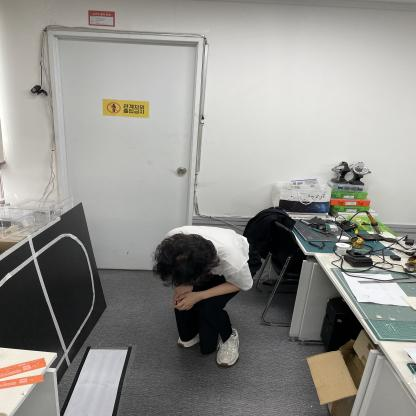fall: (158, 223, 256, 367)
